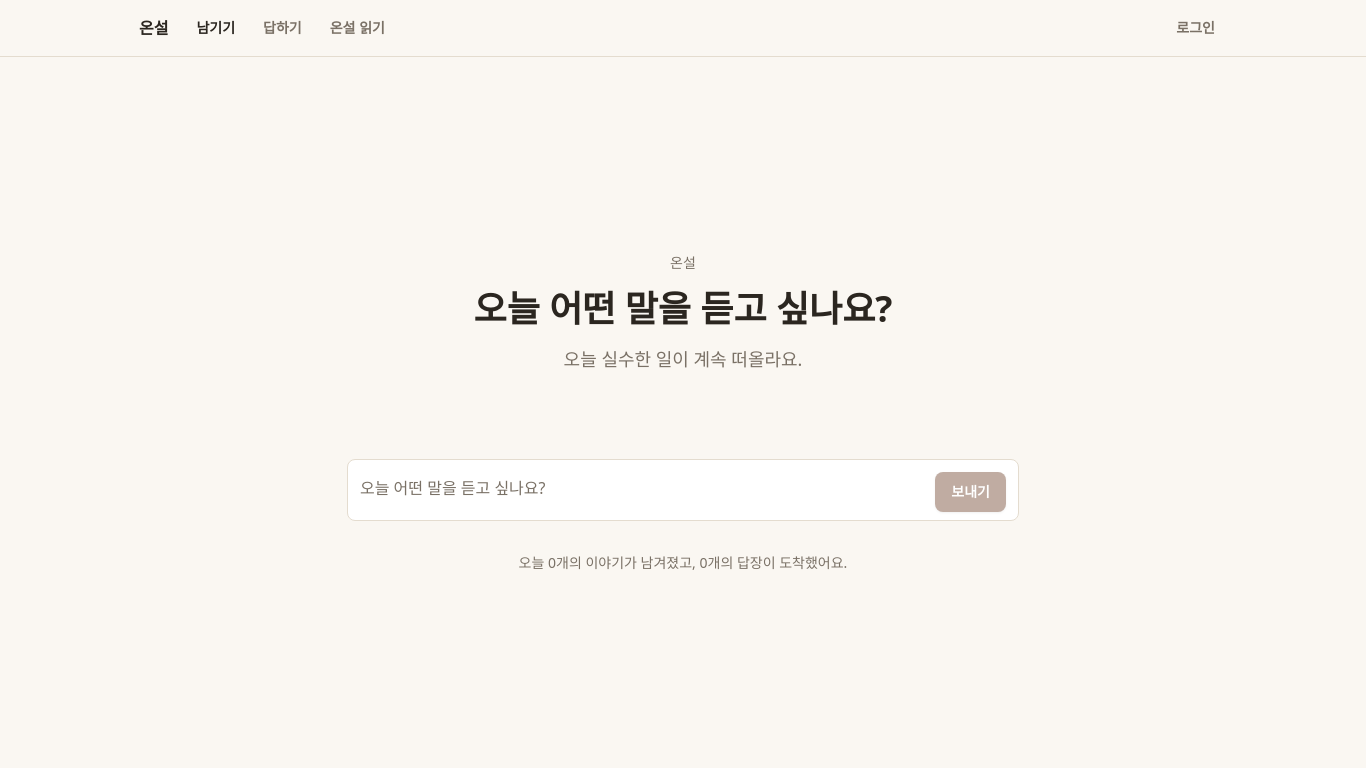
Test: TodayPrototype › shows an error toast when the API rejects the submission
Expected: the text "오늘 0개의 이야기가 남겨졌고, 0개의 답장이 도착했어요." is shown, [519,552,847,572]
Type "비회원 두 번째 시도" into the text box labelled "오늘 어떤 말을 듣고 싶나요?". click: (644, 490)
box: [360,468,927,512]
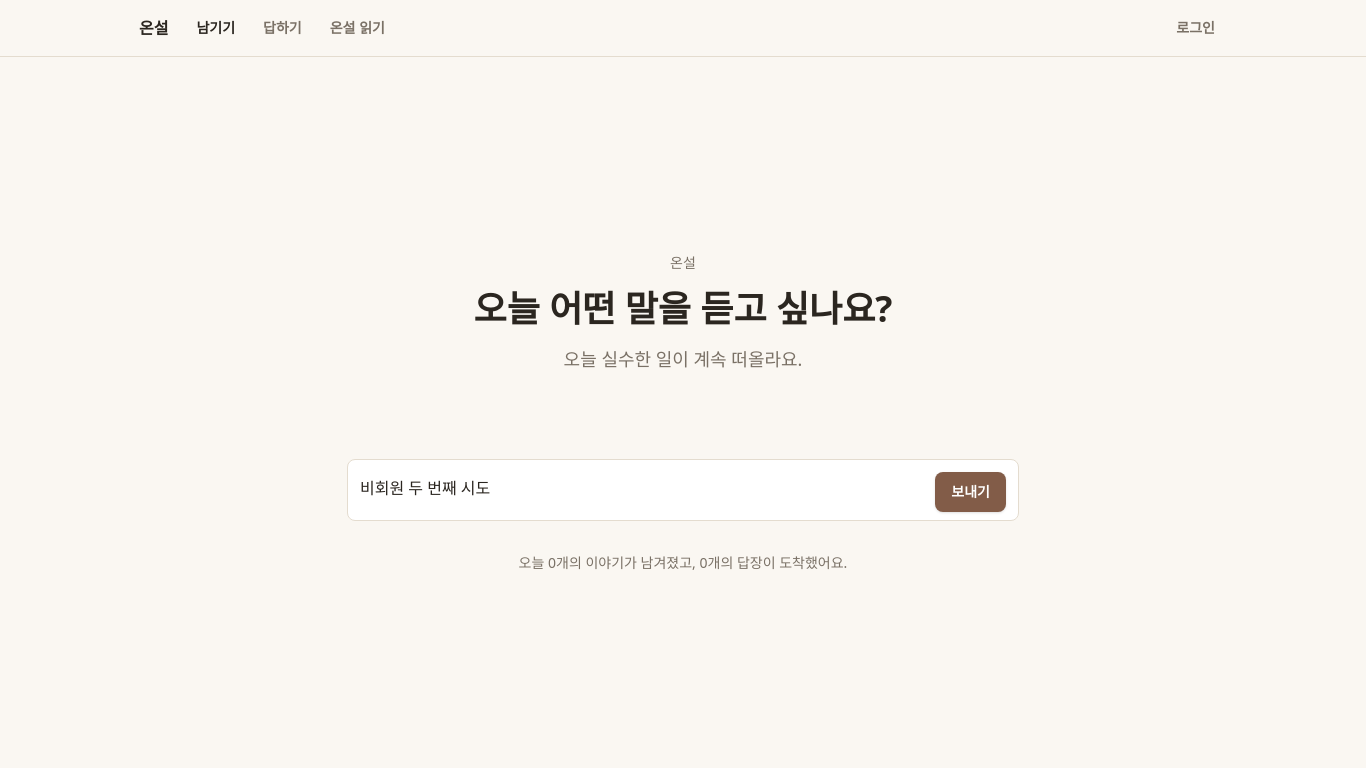
Click the button "보내기". click: (971, 492)
box: [935,472,1006,512]
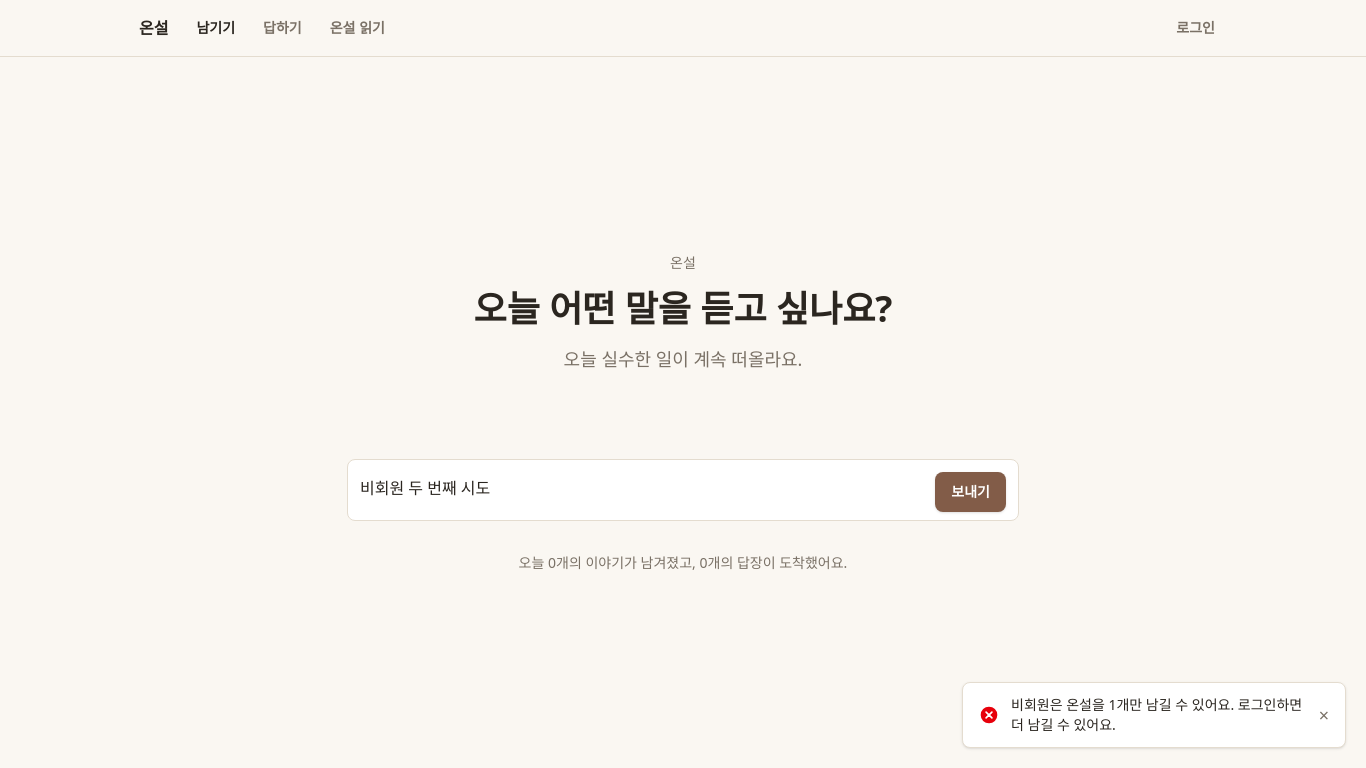
Expected: the text "비회원은 온설을 1개만 남길 수 있어요. 로그인하면 더 남길 수 있어요." is shown, [1011,695,1307,735]
